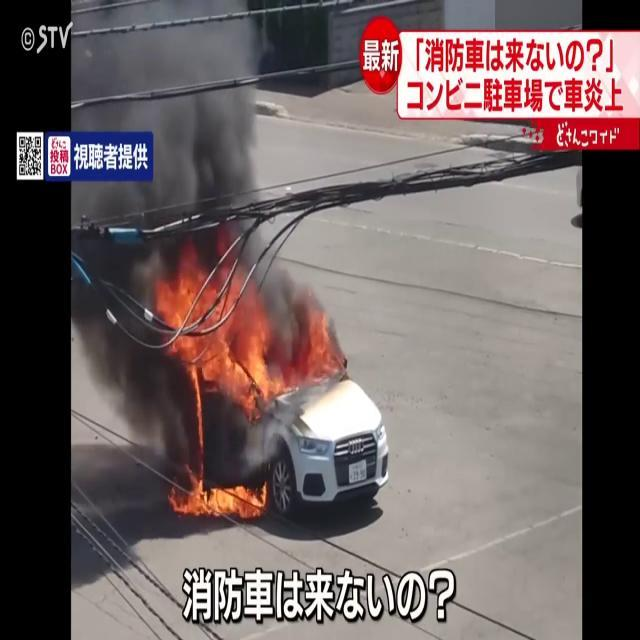Fire: (154, 252, 333, 432), (178, 472, 270, 524)
Smoke: (72, 1, 284, 283)
